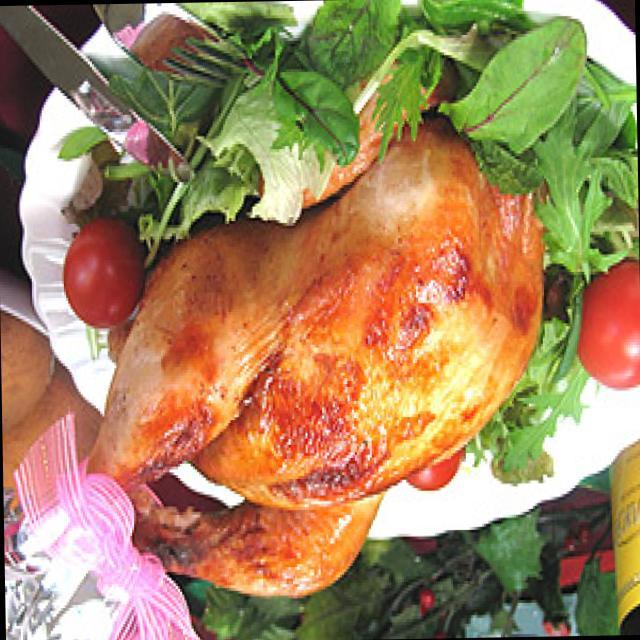Chicken: (113, 200, 552, 610)
Green Salad: (150, 2, 600, 210)
